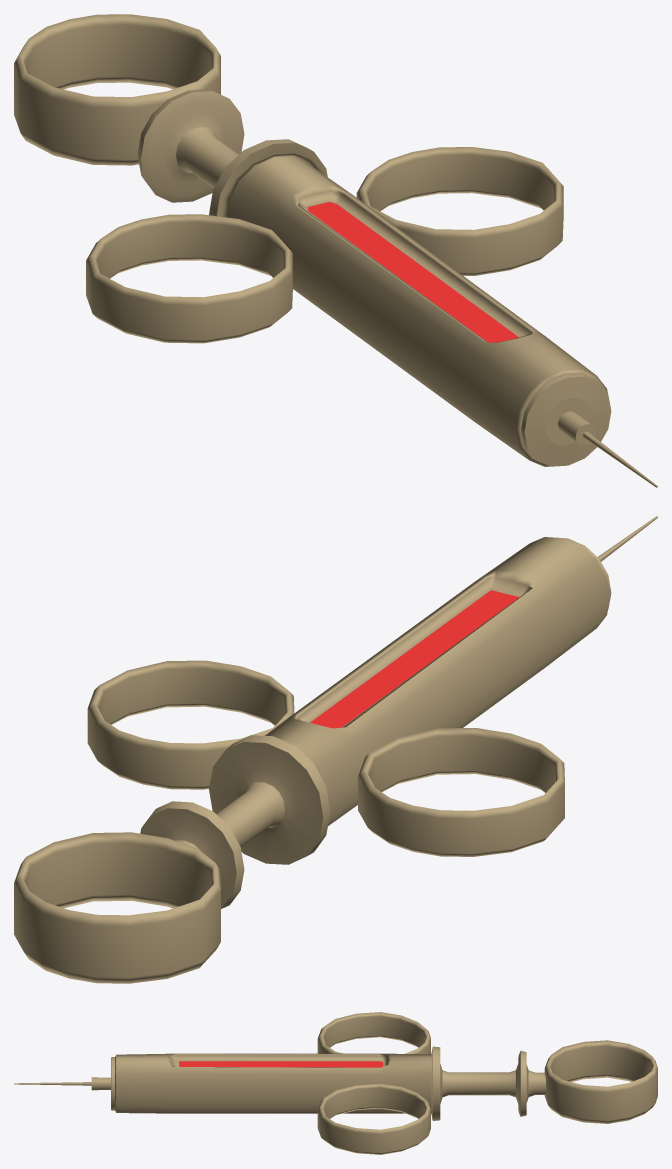
File: Doc_Needle_1.fbx
The picture shows the model from 3 angles, top to bottom: view 1: azimuth 30°, elevation 25°; view 2: azimuth 150°, elevation 25°; view 3: azimuth 270°, elevation 25°; orthographic projection. The views are drawn at different scales.
Parts seen in each view (by area): view 1: Jeringuilla1; view 2: Jeringuilla1; view 3: Jeringuilla1.
Boxes of the visible parts, x1=… form: Jeringuilla1: x1=14, y1=14, x2=657, y2=487; Jeringuilla1: x1=14, y1=516, x2=657, y2=983; Jeringuilla1: x1=14, y1=1012, x2=657, y2=1154.
Size of the model in its own units: 5.71 by 1.49 by 12.86.
